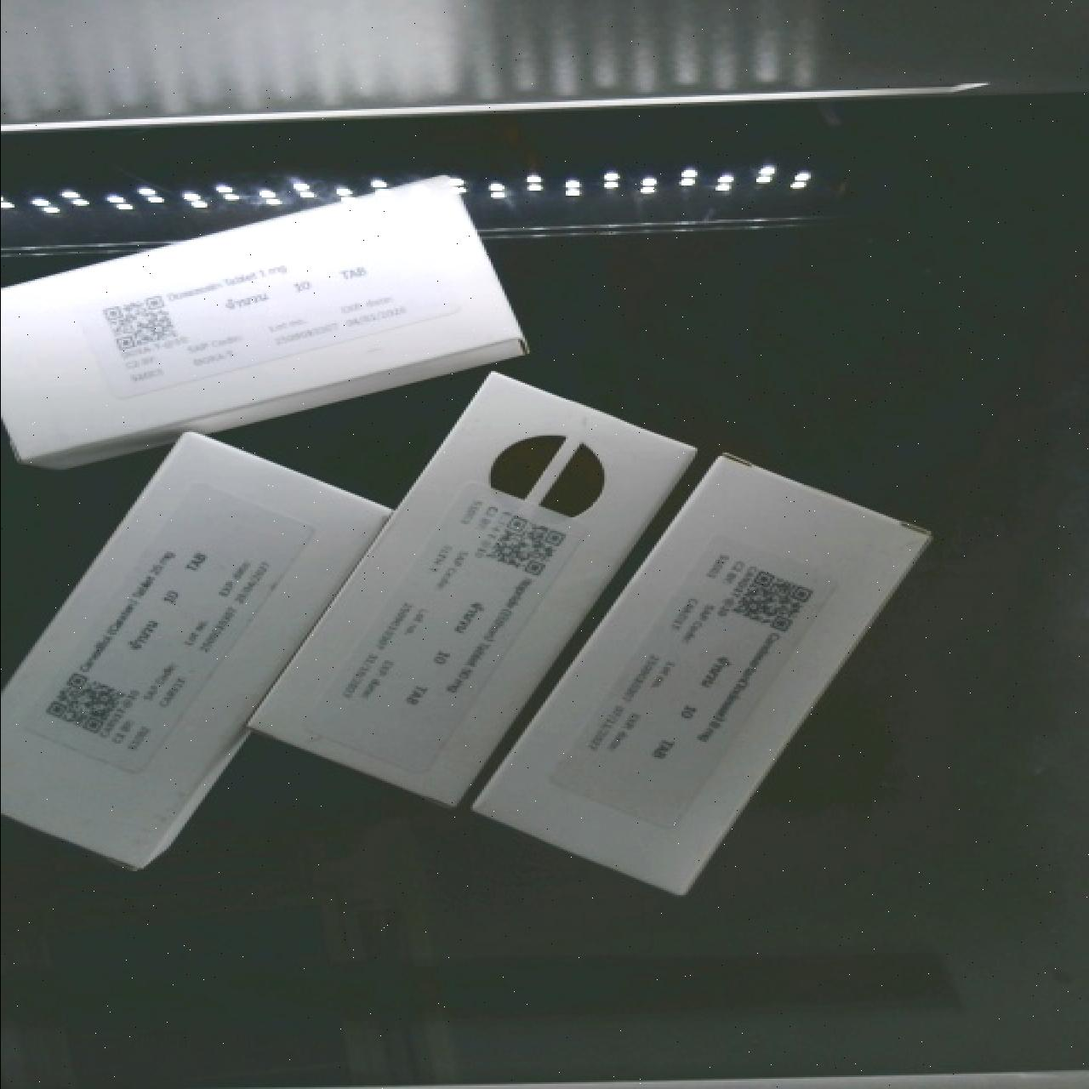qr_code: (706, 542, 840, 661), (18, 646, 151, 765), (462, 493, 588, 604), (74, 272, 200, 380)
